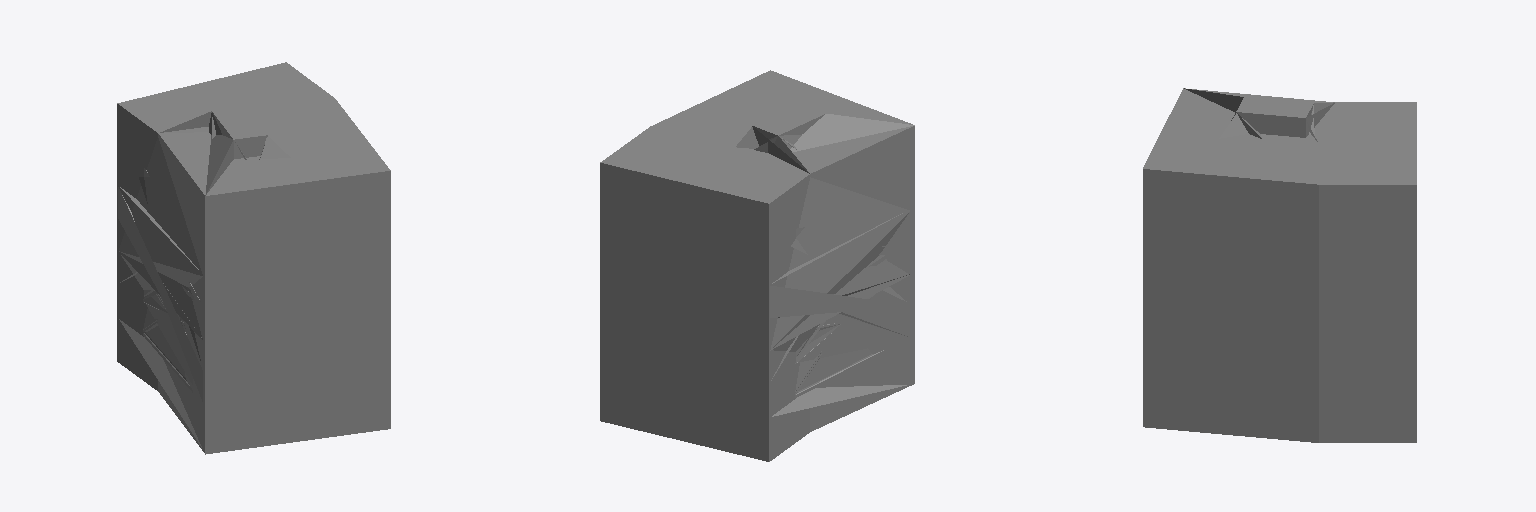
Rendered from House_type-3.obj.
The picture shows the model from 3 angles: view 1: azimuth 30°, elevation 25°; view 2: azimuth 150°, elevation 25°; view 3: azimuth 270°, elevation 25°; orthographic projection.
Visible parts, largest first — view 1: floor6, wall, floor1, win, balcon; view 2: floor6, balcon, wall, win, floor1; view 3: floor6, balcon, win, floor1, wall.
Part boxes in pixels (x1,y1,x2,y2): floor6: (117, 62, 390, 454); wall: (118, 117, 290, 447); floor1: (160, 111, 233, 195); win: (159, 112, 231, 449); balcon: (120, 116, 232, 452); floor6: (600, 70, 914, 461); balcon: (600, 116, 914, 461); wall: (736, 127, 910, 416); win: (602, 114, 914, 460); floor1: (752, 114, 914, 173); floor6: (1143, 88, 1416, 442); balcon: (1143, 112, 1318, 442); win: (1143, 112, 1317, 423); floor1: (1184, 88, 1334, 136); wall: (1219, 105, 1317, 141).
Size of the model in its own units: 1948 by 2616 by 2338.